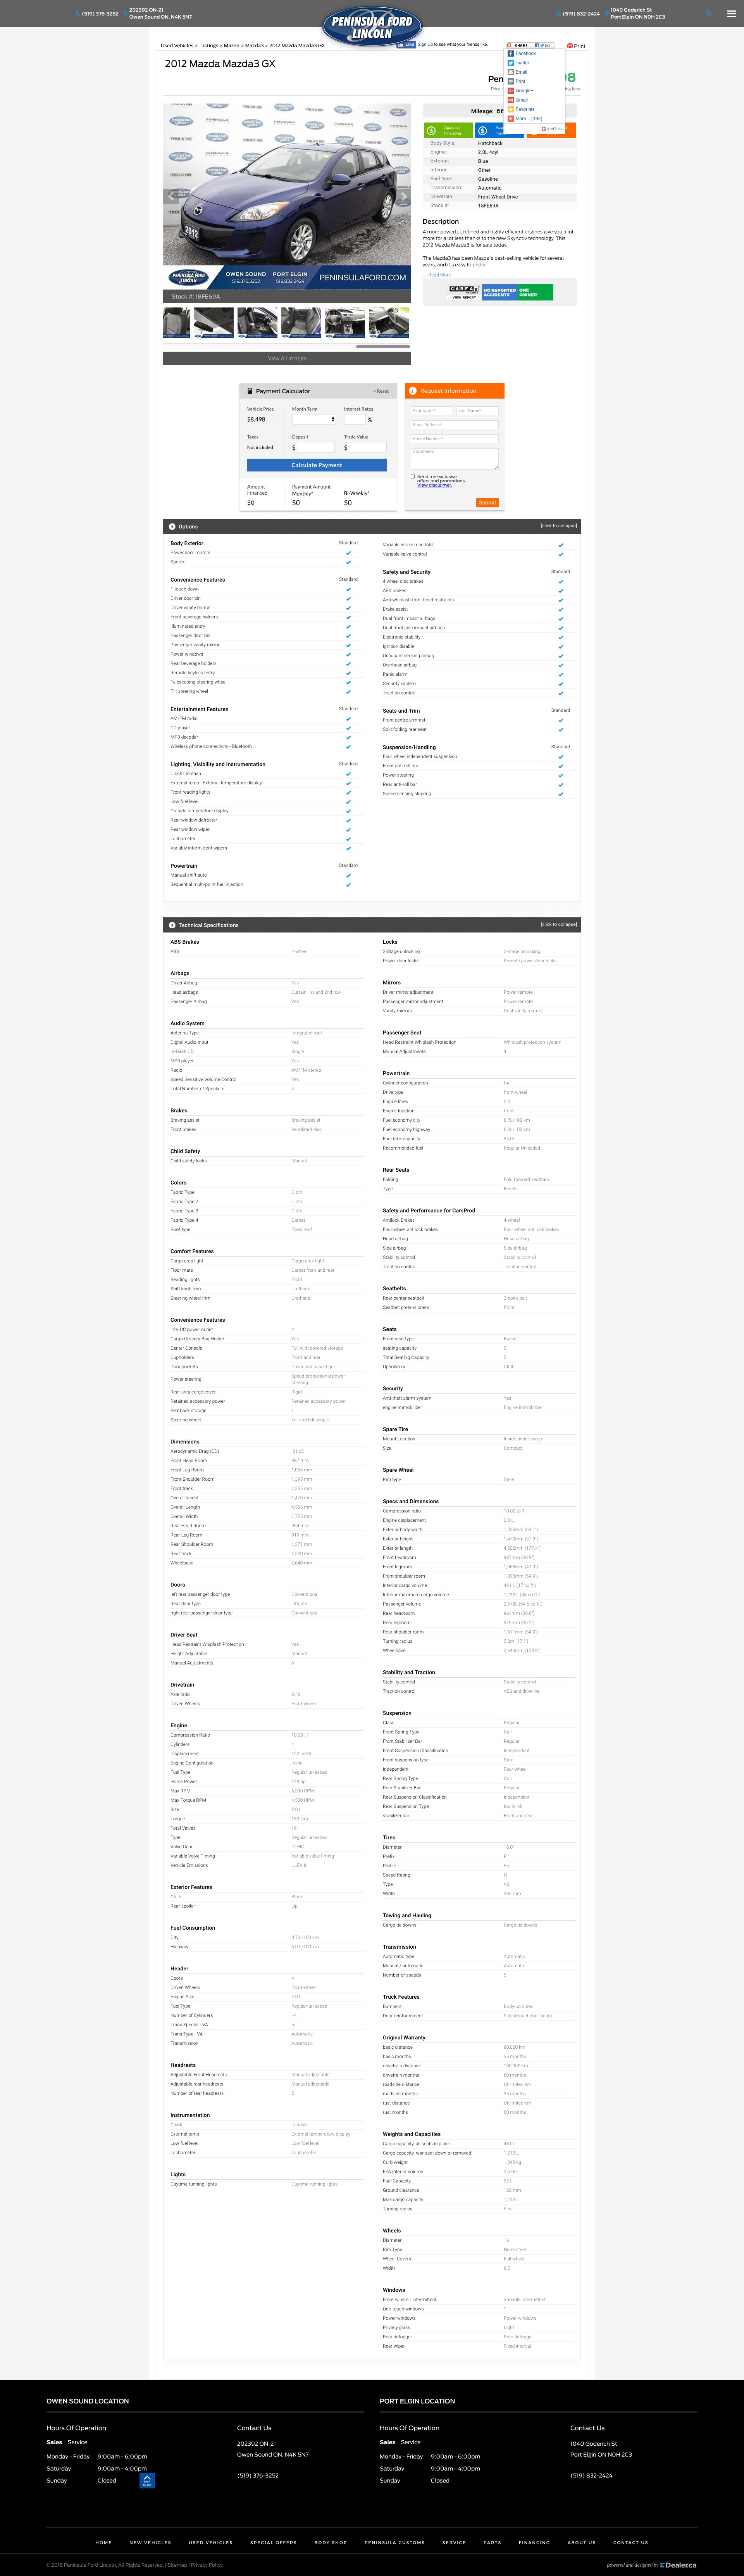car: (401, 192, 407, 202)
